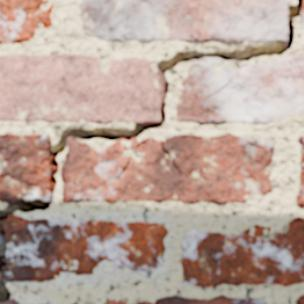brick: (62, 134, 273, 204), (0, 55, 161, 123), (82, 0, 287, 42), (178, 55, 303, 122), (183, 218, 303, 286), (0, 134, 51, 201), (0, 0, 53, 44), (159, 296, 266, 303), (297, 137, 303, 206), (297, 296, 303, 303), (107, 301, 127, 303)
broken_brick: (4, 215, 169, 283), (7, 299, 20, 303)
crack: (0, 0, 303, 303), (161, 141, 183, 174), (31, 19, 39, 24)
